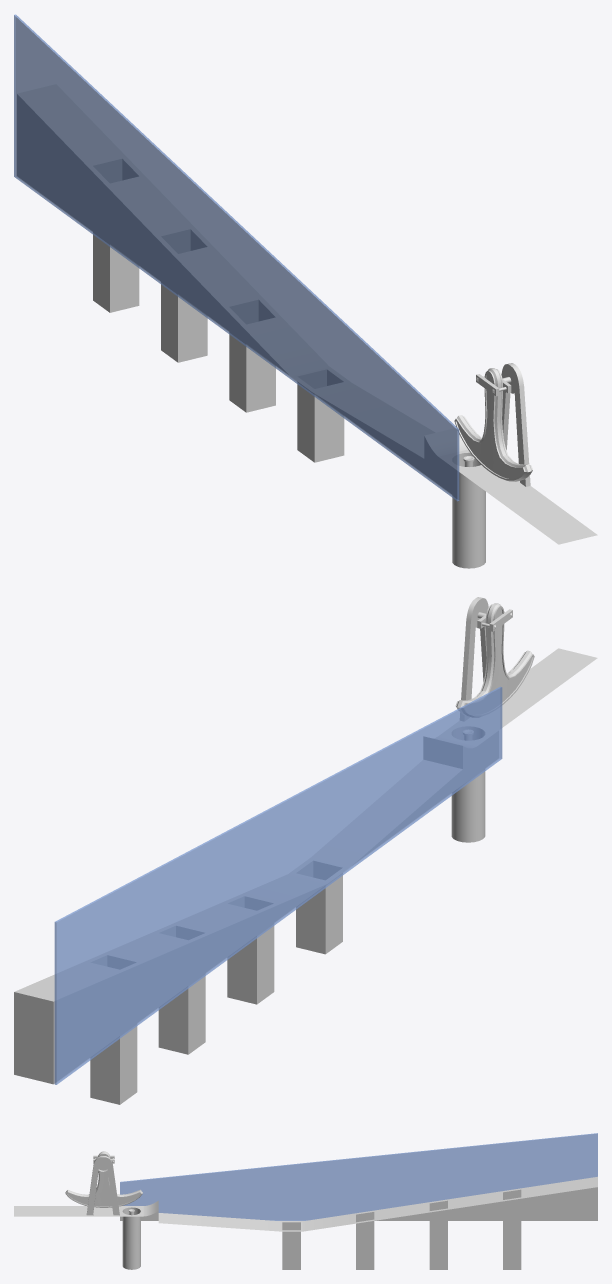
The model's file is Ukonvasara Launcher Assembly.FBX.
The picture shows the model from 3 angles, top to bottom: view 1: azimuth 30°, elevation 25°; view 2: azimuth 150°, elevation 25°; view 3: azimuth 270°, elevation 25°; orthographic projection. The views are drawn at different scales.
Parts seen in each view (by area): view 1: Launcher Shield, Launcher Track, Pinball Lift, Ukonvasara, Ukonvasara Frame; view 2: Launcher Shield, Launcher Track, Pinball Lift, Ukonvasara, Ukonvasara Frame; view 3: Launcher Shield, Launcher Track, Pinball Lift, Ukonvasara, Ukonvasara Frame.
Boxes of the visible parts, box(x1,y1,x2,y2) form: Launcher Shield: box(14, 14, 459, 501); Launcher Track: box(17, 84, 597, 544); Pinball Lift: box(438, 449, 485, 568); Ukonvasara: box(454, 368, 532, 481); Ukonvasara Frame: box(501, 363, 530, 486); Launcher Shield: box(54, 686, 502, 1084); Launcher Track: box(14, 648, 597, 1104); Pinball Lift: box(438, 721, 498, 842); Ukonvasara: box(455, 603, 534, 717); Ukonvasara Frame: box(460, 597, 488, 720); Launcher Shield: box(120, 1133, 597, 1220); Launcher Track: box(14, 1176, 597, 1269); Pinball Lift: box(120, 1206, 143, 1269); Ukonvasara: box(65, 1151, 142, 1207); Ukonvasara Frame: box(86, 1156, 119, 1215).
Bounding box in the file's own units: 0.043 × 0.2287 × 0.9534.
